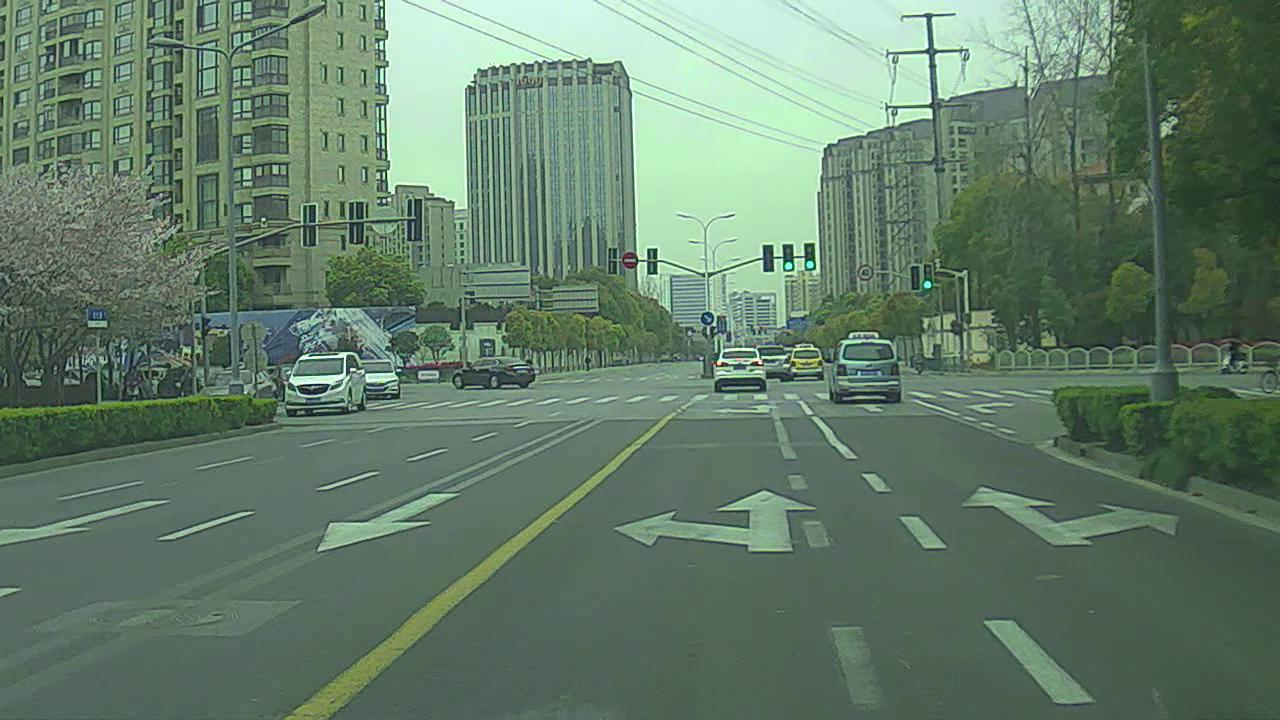traffic_light: (909, 265, 925, 293), (762, 242, 775, 273), (782, 244, 794, 273), (805, 244, 815, 269), (923, 264, 933, 289)
